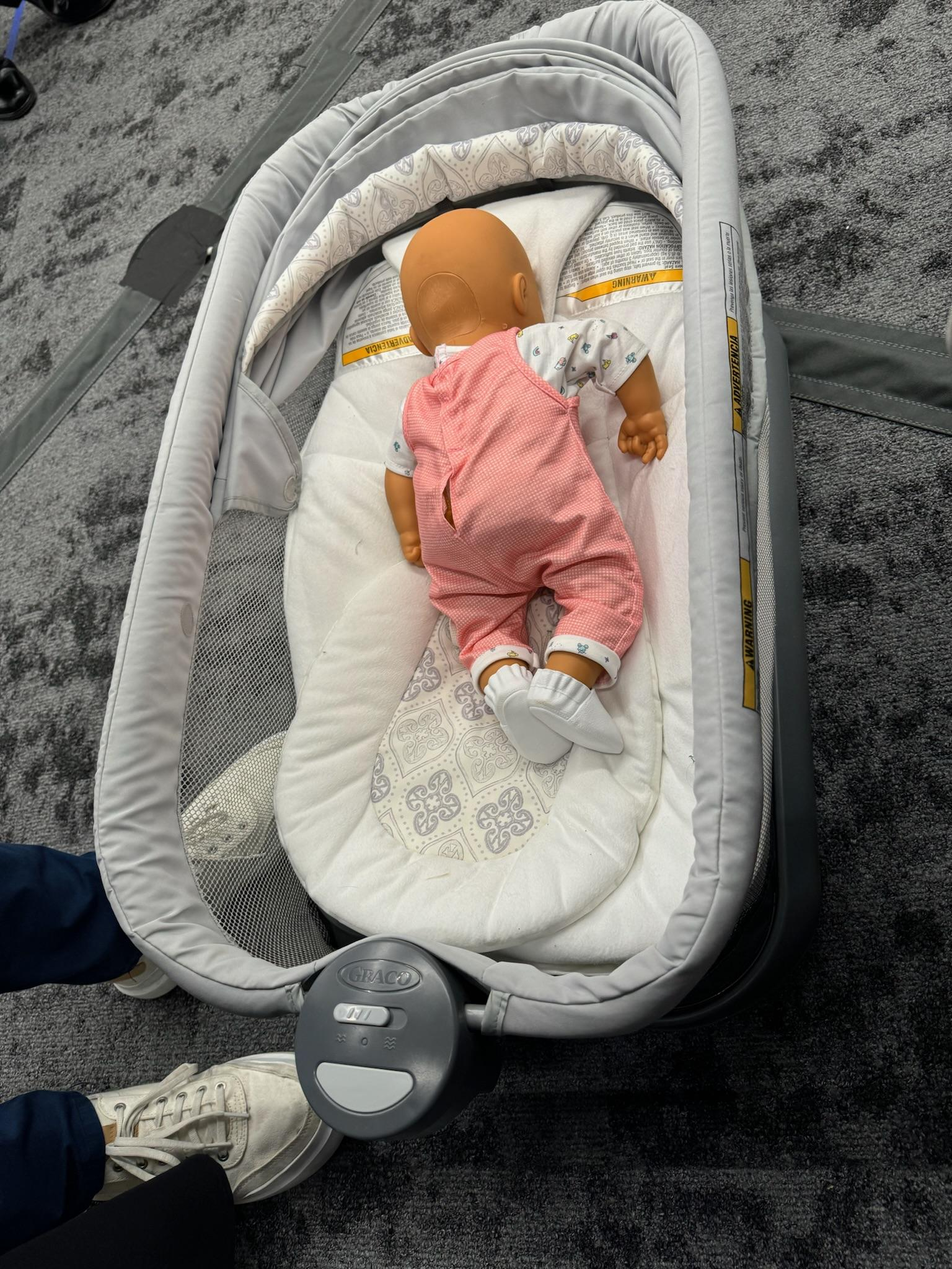baby: (378, 200, 666, 771)
